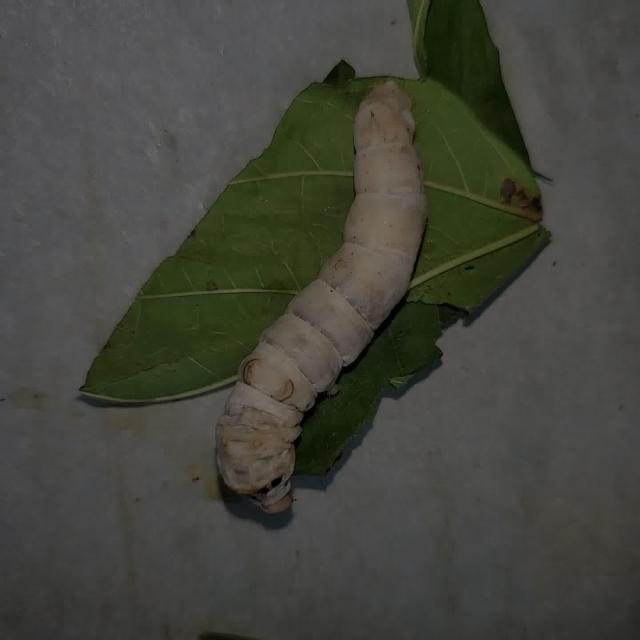Grasserie: (175, 58, 474, 533)
